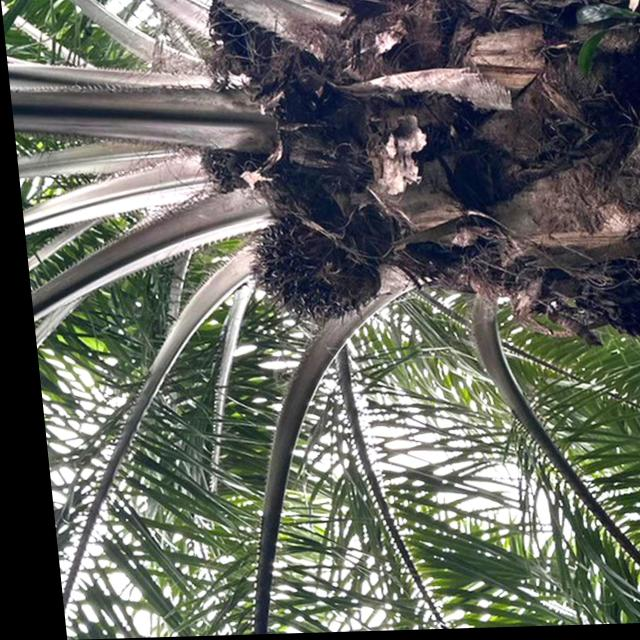unripe: (228, 207, 391, 344)
